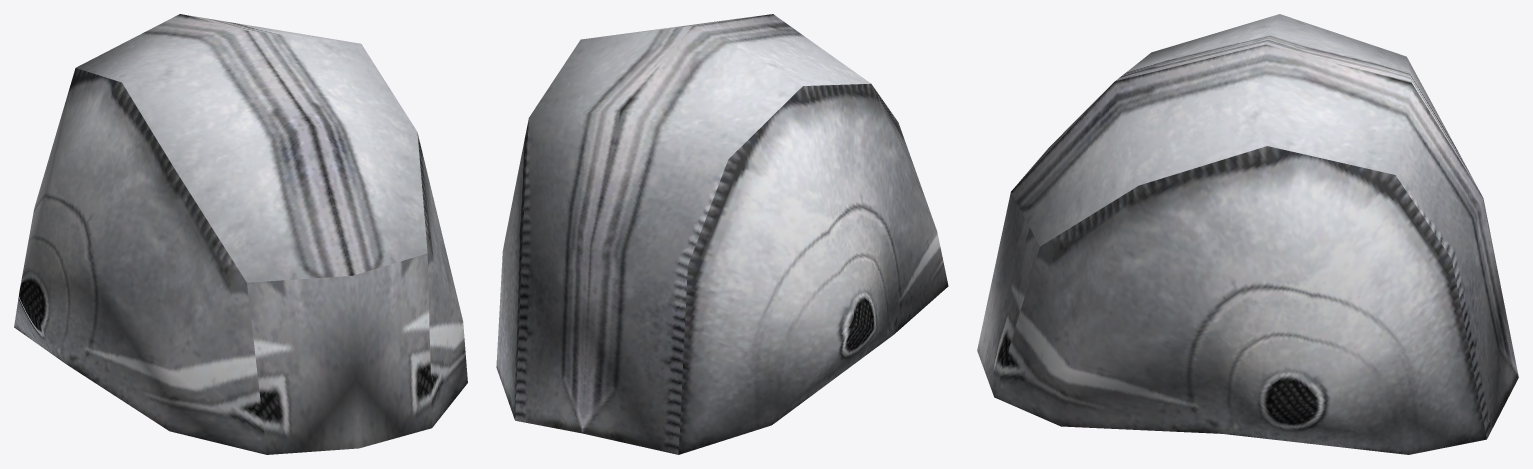
File: Helmet5__EC.glb
3 views of the same model, side by side, from view 1: azimuth 30°, elevation 25°; view 2: azimuth 150°, elevation 25°; view 3: azimuth 270°, elevation 25° (orthographic). The views are drawn at different scales.
Visible parts, largest first — view 1: Helmet5; view 2: Helmet5; view 3: Helmet5.
Boxes of the visible parts, <box> form: Helmet5: <box>14,14,467,454</box>; Helmet5: <box>496,14,948,454</box>; Helmet5: <box>977,14,1518,454</box>.
Bounding box in the file's own units: 12.59 × 11.15 × 15.37.
Materials: 1 (1 with a texture image).
